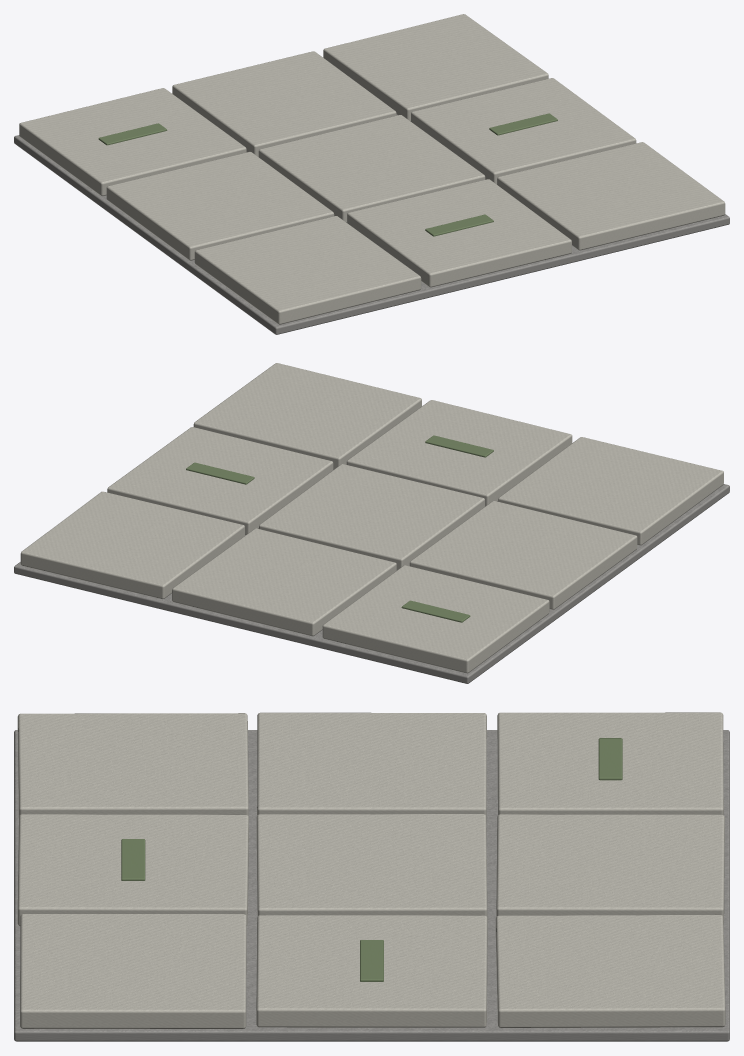
Rendered from jungle-temple-and-stone-city-plaza-paving-slab-294de74a__36111.glb.
3 views of the same model, one above another, from view 1: azimuth 30°, elevation 25°; view 2: azimuth 150°, elevation 25°; view 3: azimuth 270°, elevation 25° (orthographic). The views are drawn at different scales.
Parts seen in each view (by area): view 1: plaza-paving-slab; view 2: plaza-paving-slab; view 3: plaza-paving-slab.
Part boxes in pixels (x1=…): plaza-paving-slab: x1=14, y1=14, x2=729, y2=334; plaza-paving-slab: x1=14, y1=363, x2=729, y2=683; plaza-paving-slab: x1=14, y1=712, x2=729, y2=1041.
Size of the model in its own units: 3 by 0.15 by 3.
3 materials, 3 textured.
